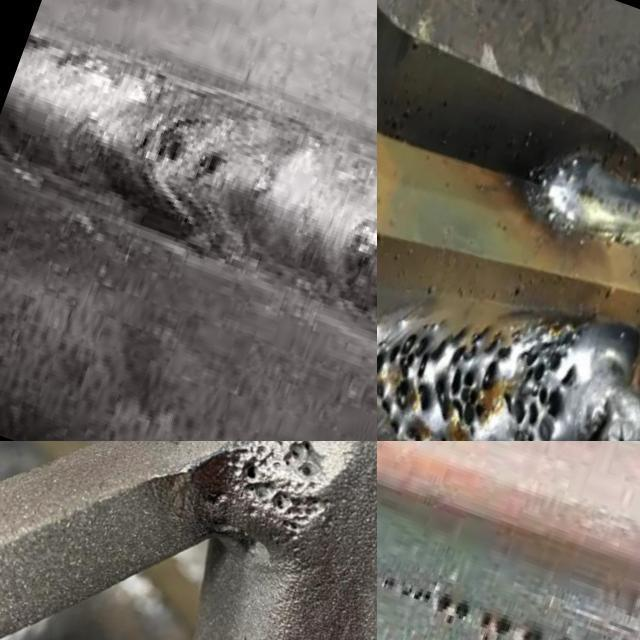defect: (377, 313, 599, 441), (234, 446, 321, 548), (377, 574, 475, 628), (130, 114, 189, 166), (183, 136, 228, 185), (273, 441, 317, 480)
